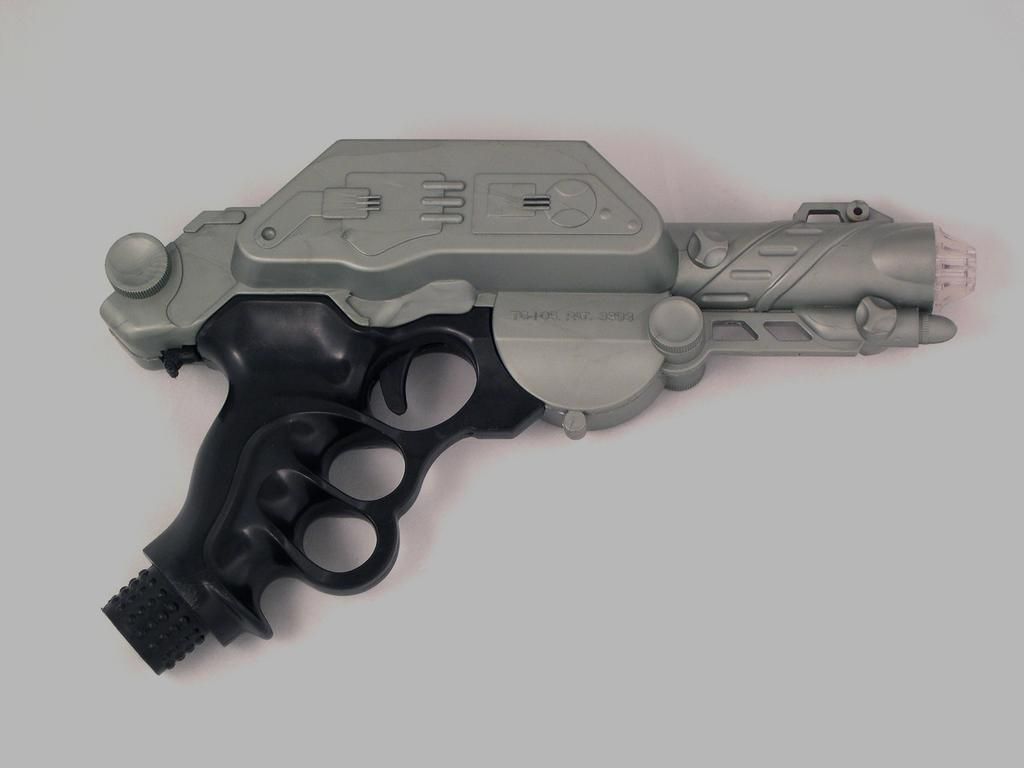Handgun: (97, 136, 977, 678)
